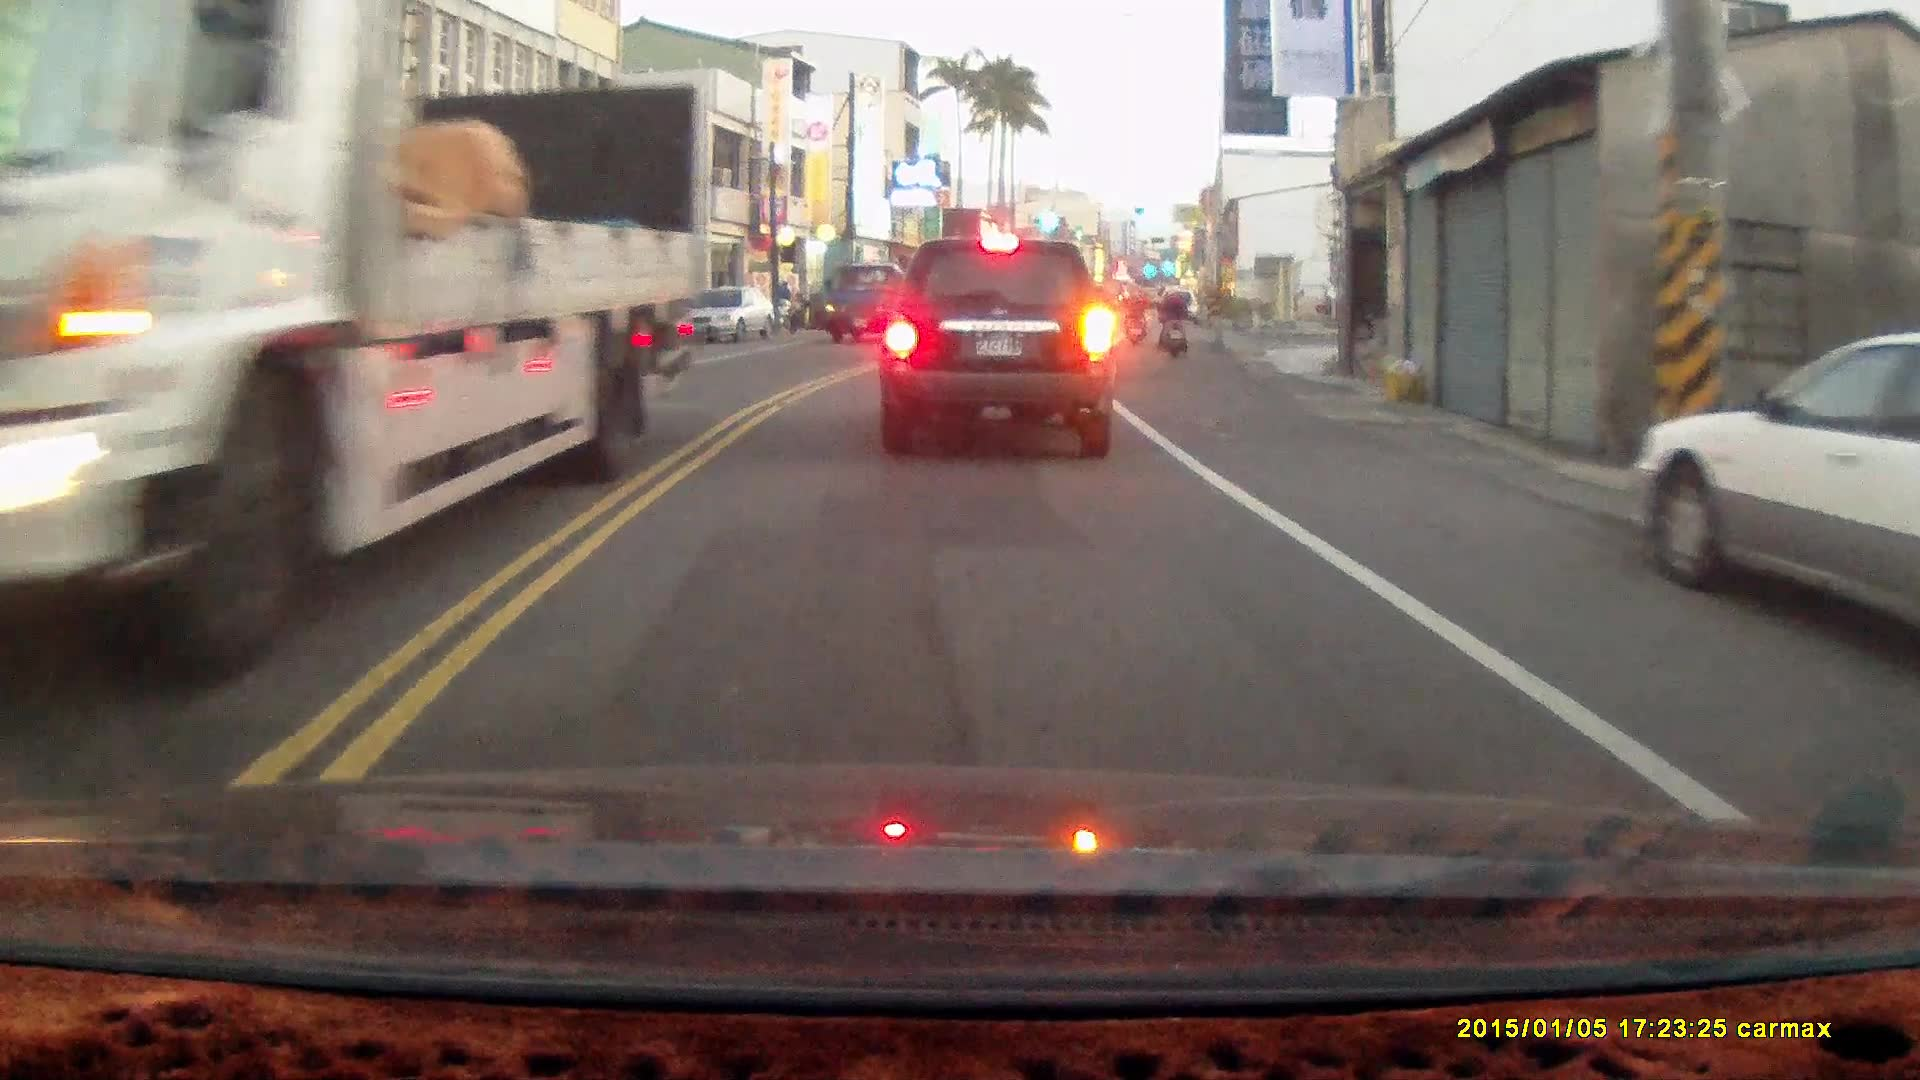rider: (1155, 281, 1186, 361), (1121, 288, 1146, 346)
vehicle: (3, 0, 693, 688), (1630, 332, 1920, 644), (877, 235, 1121, 460), (822, 259, 932, 345), (685, 285, 776, 344)
